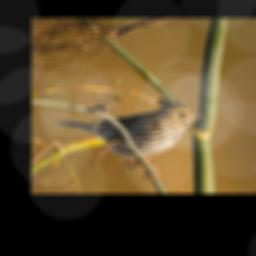Sparrow: (53, 101, 205, 181)
